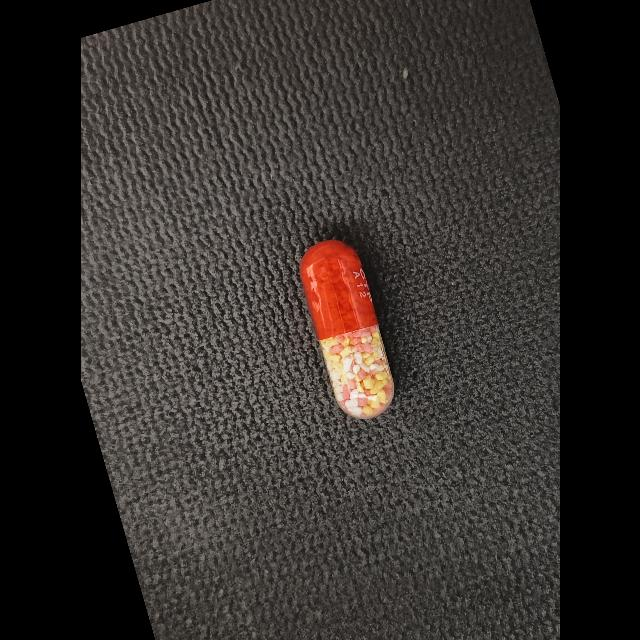Intact Capsule: (299, 240, 394, 418)
